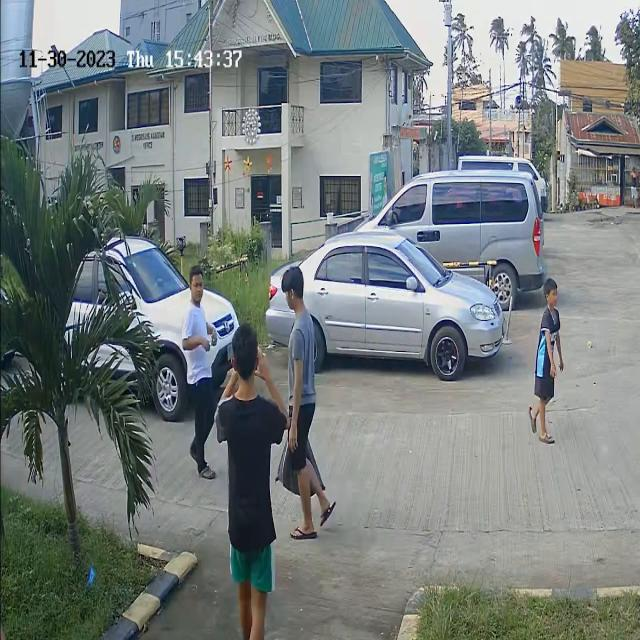person: (274, 266, 326, 408), (226, 321, 266, 441), (533, 277, 570, 401), (182, 267, 219, 355)
